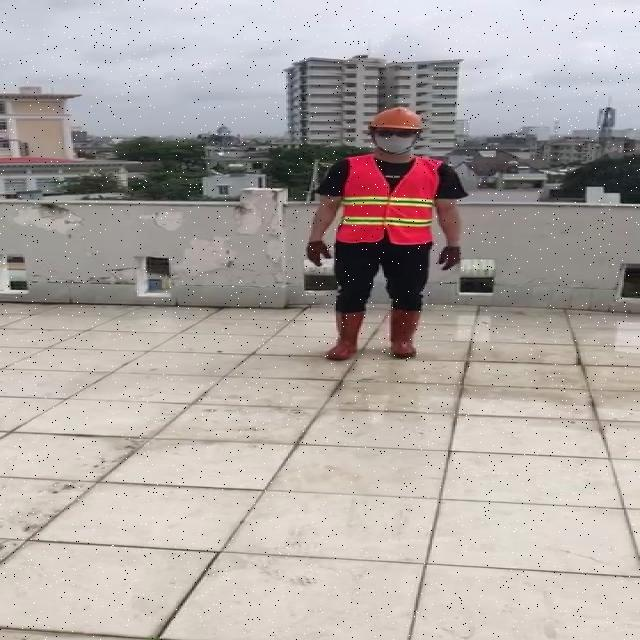Hard_hat: (365, 105, 425, 138)
Vest: (333, 156, 440, 250)
